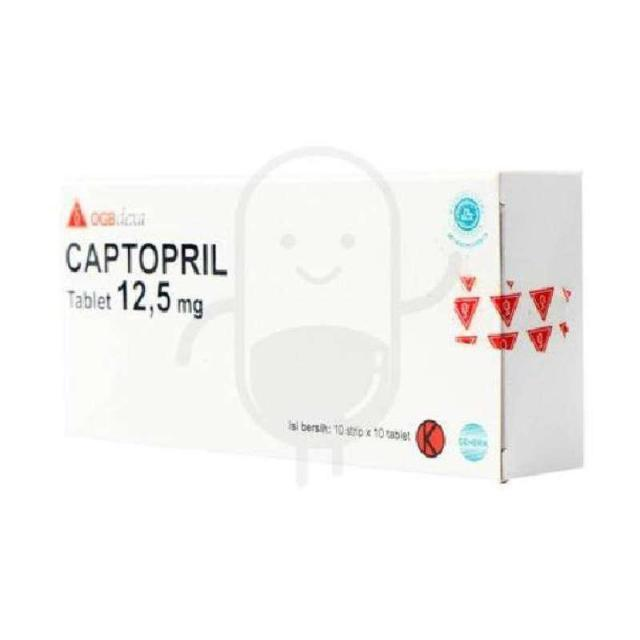drug-name: (62, 230, 230, 282)
